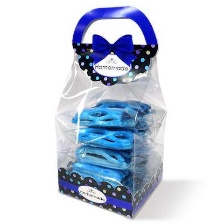snack: (46, 0, 175, 224)
